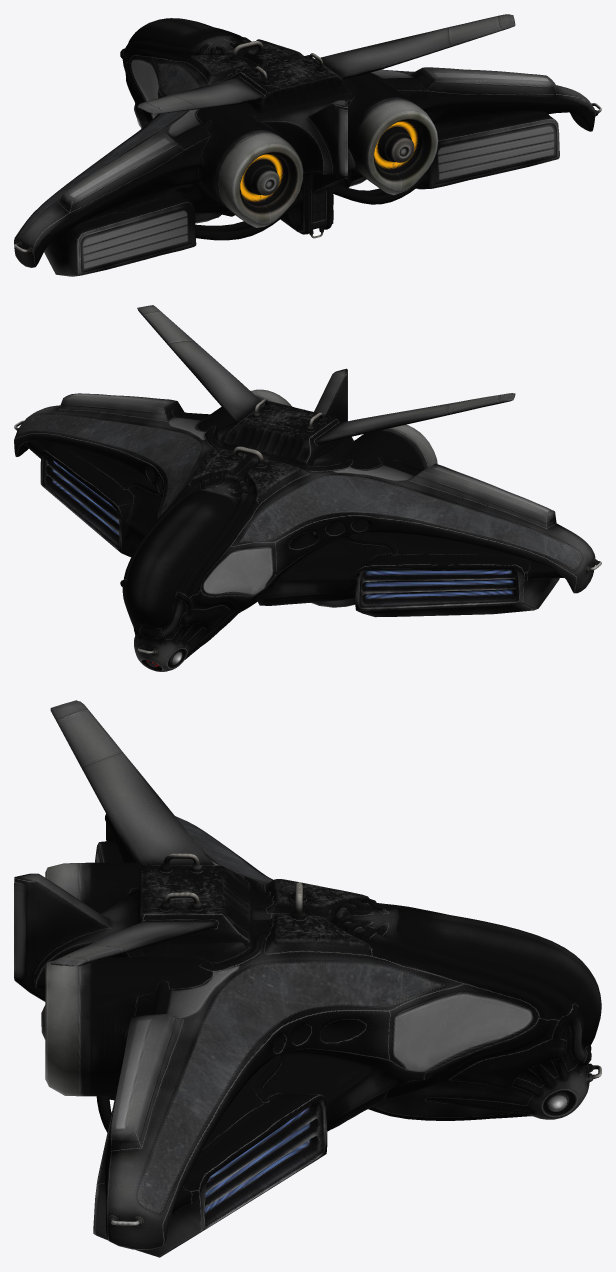
The model's file is lancer.glb.
The picture shows the model from 3 angles, top to bottom: view 1: azimuth 30°, elevation 25°; view 2: azimuth 150°, elevation 25°; view 3: azimuth 270°, elevation 25°; orthographic projection. The views are drawn at different scales.
Visible parts, largest first — view 1: Starship_Game; view 2: Starship_Game; view 3: Starship_Game.
Boxes of the visible parts, bbox=[...] form: Starship_Game: bbox=[14, 14, 601, 276]; Starship_Game: bbox=[14, 305, 601, 671]; Starship_Game: bbox=[14, 700, 601, 1257].
Size of the model in its own units: 14 by 4.54 by 8.47.
Materials: 1 (1 with a texture image).
